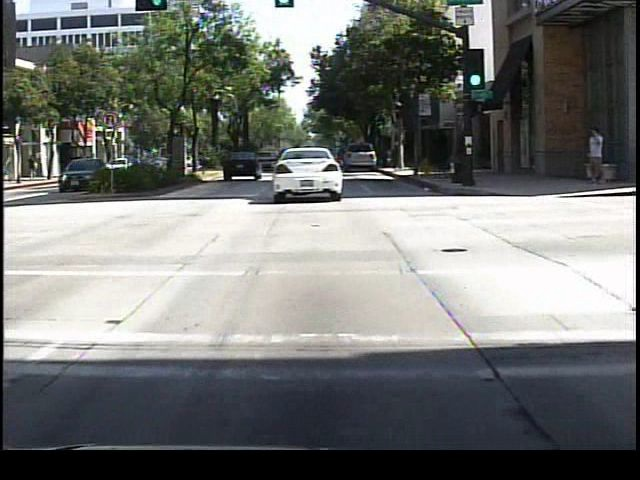person: (583, 125, 608, 188), (26, 149, 44, 184)
